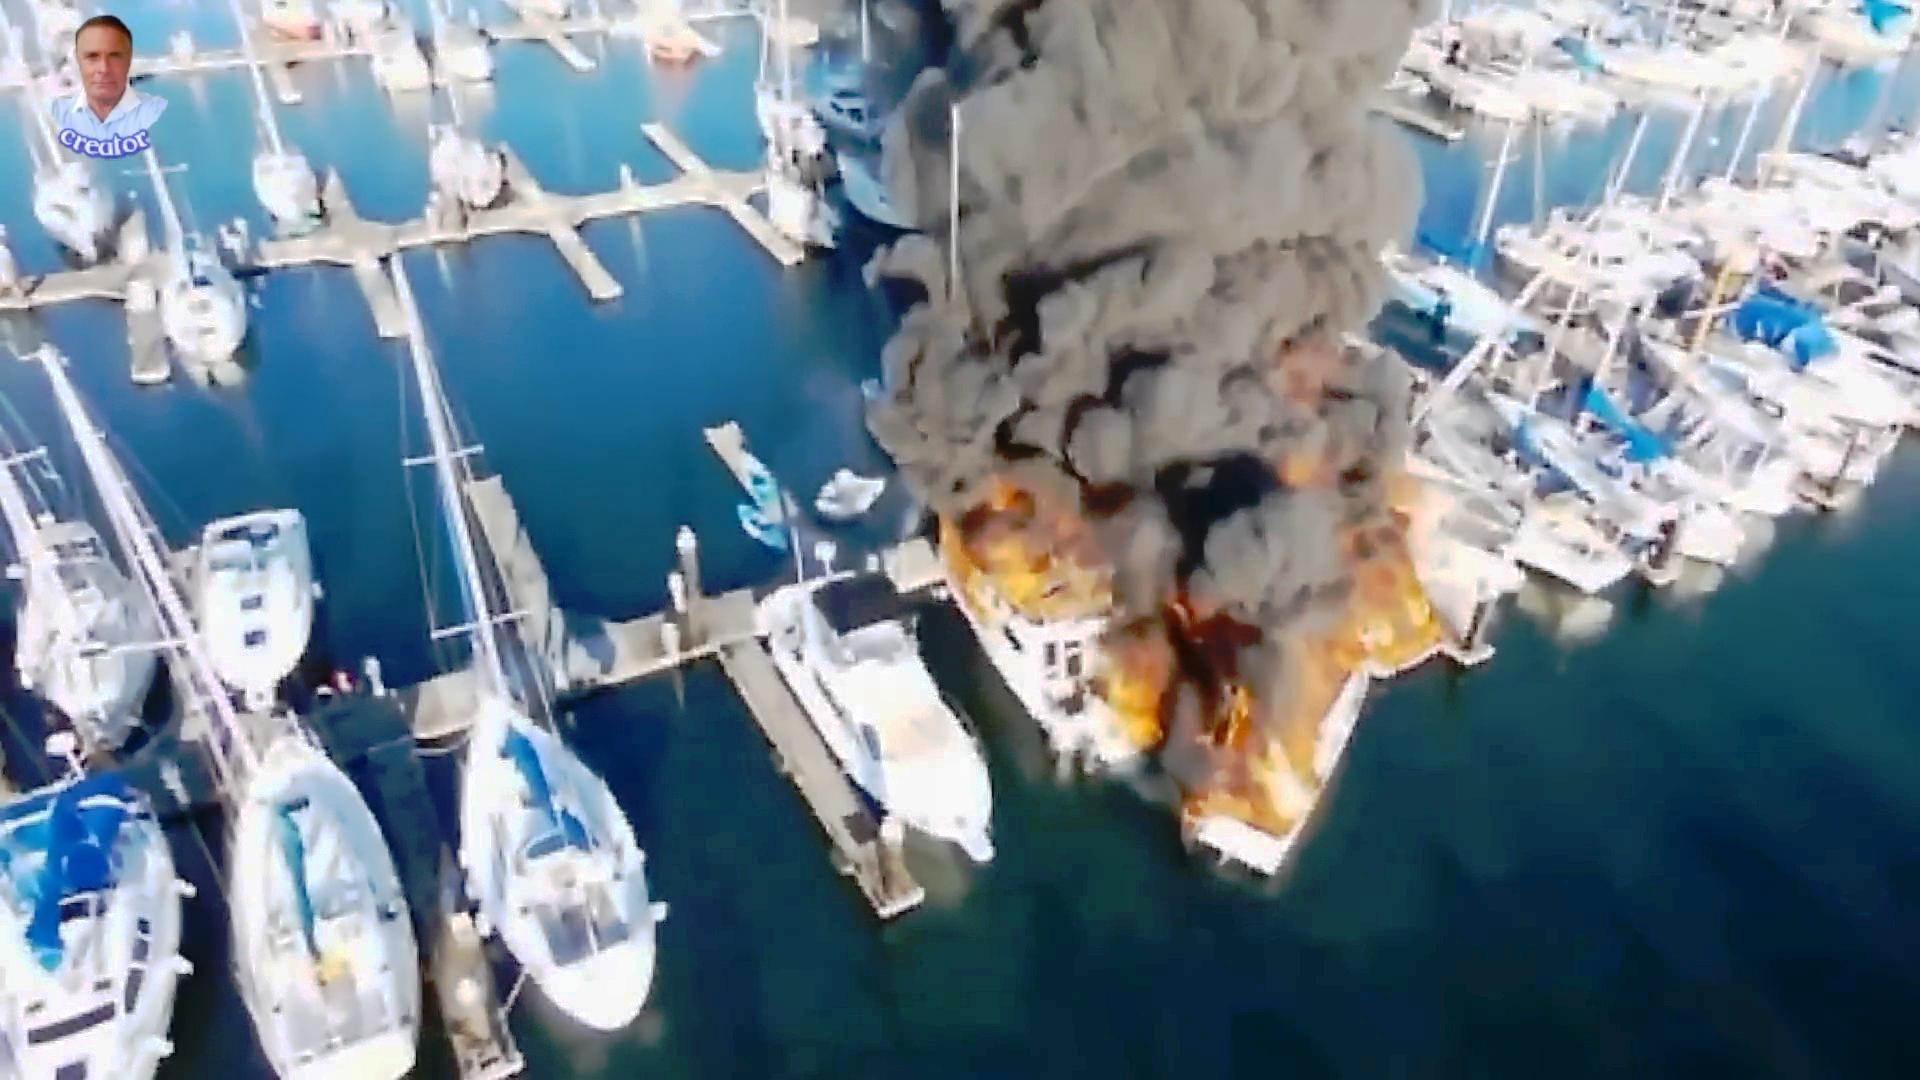fire: (1168, 713, 1356, 848), (945, 488, 1109, 637), (1319, 566, 1458, 670)
smoke: (901, 0, 1389, 473), (915, 13, 1383, 239)
